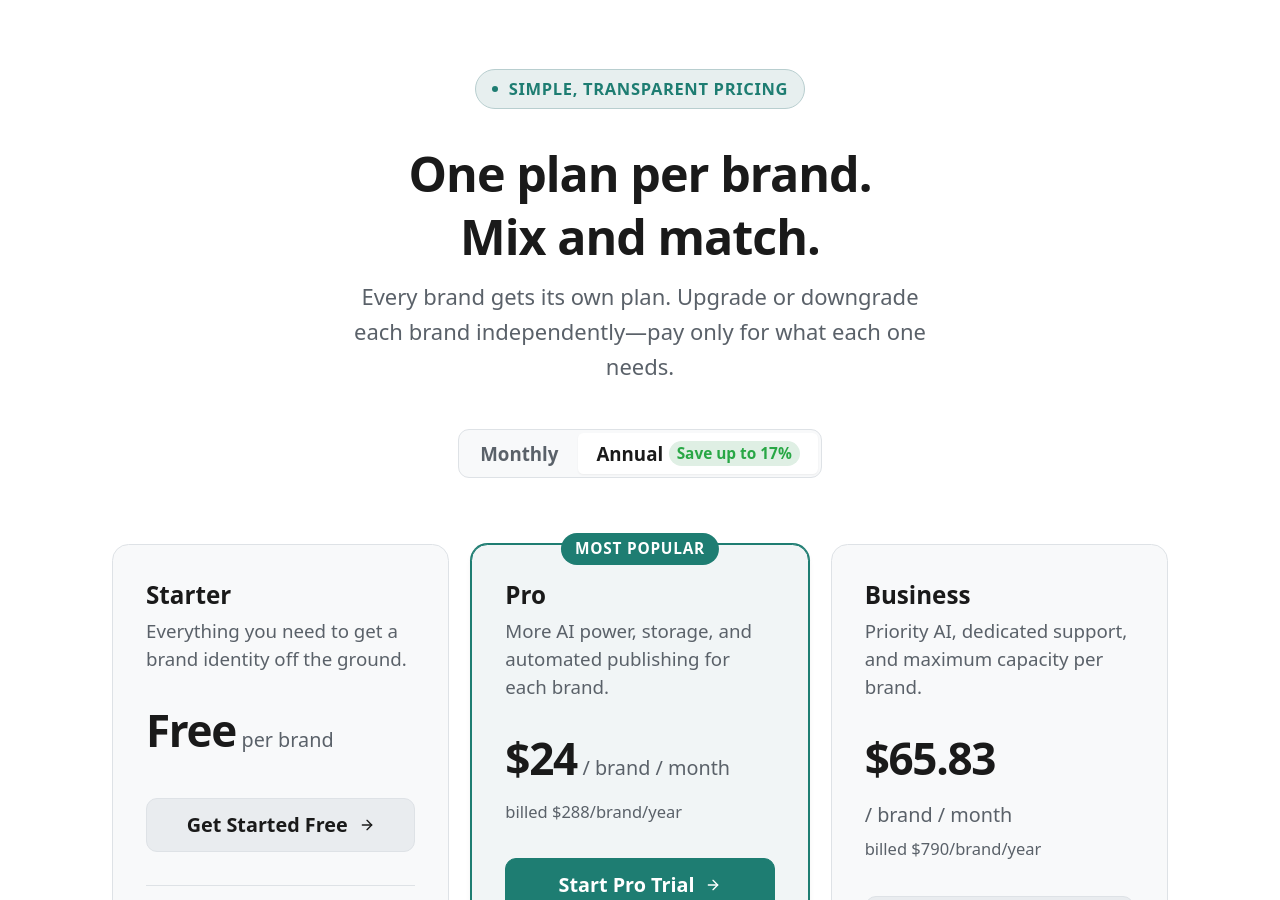
Test: PricingSection billing period › updates the headline monthly equivalent when the billing period changes
This screenshot has width=1280, height=900.
Expected: the text "$65.83" is shown, [865,723,995,794]
Click the radio button labelled "Monthly" at (519, 453), box [462,433,576,474]
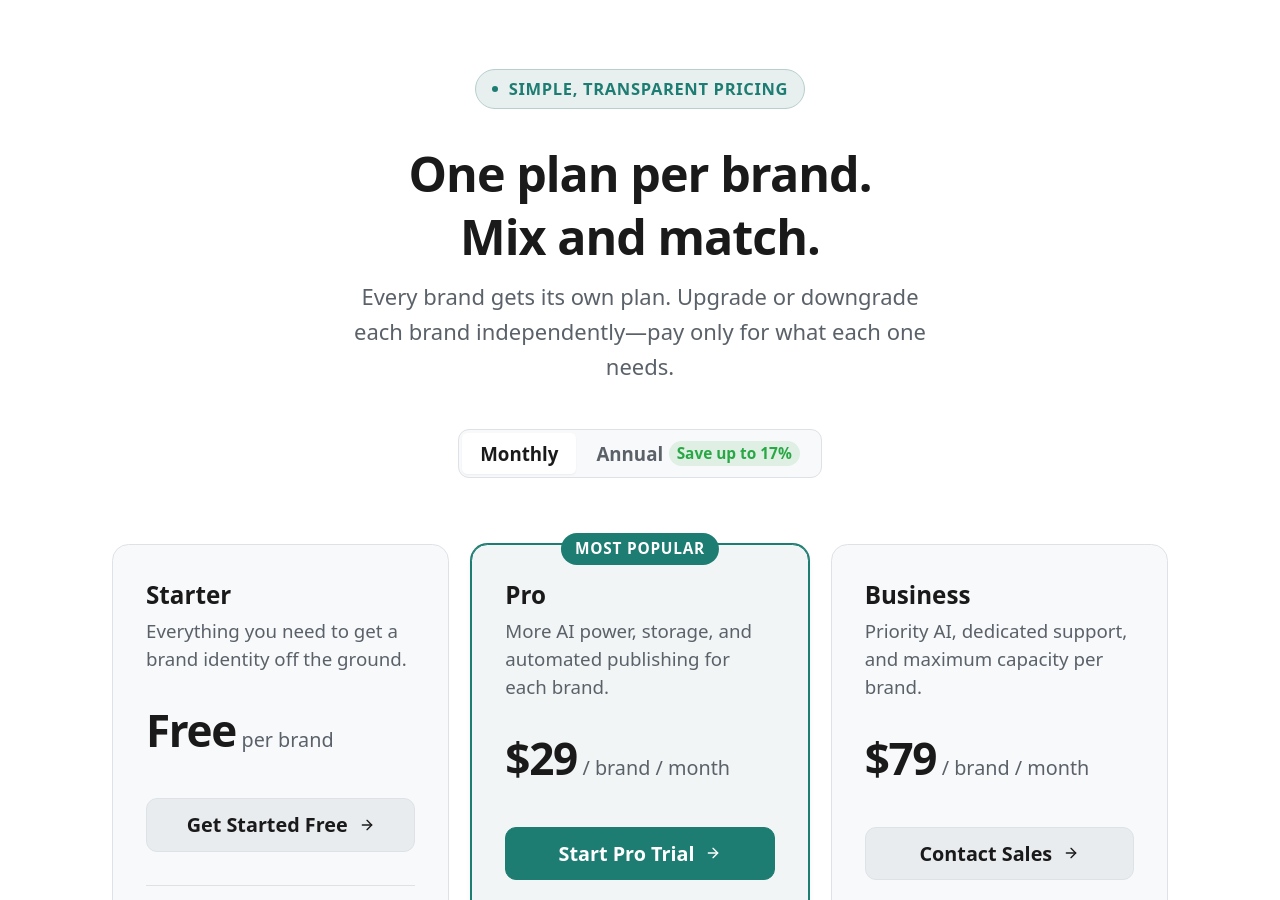
Expected: the text "$79" is shown, [865,723,936,794]
Click the radio button labelled "Annual Save up to 17%" at (698, 453), box [578,433,818,474]
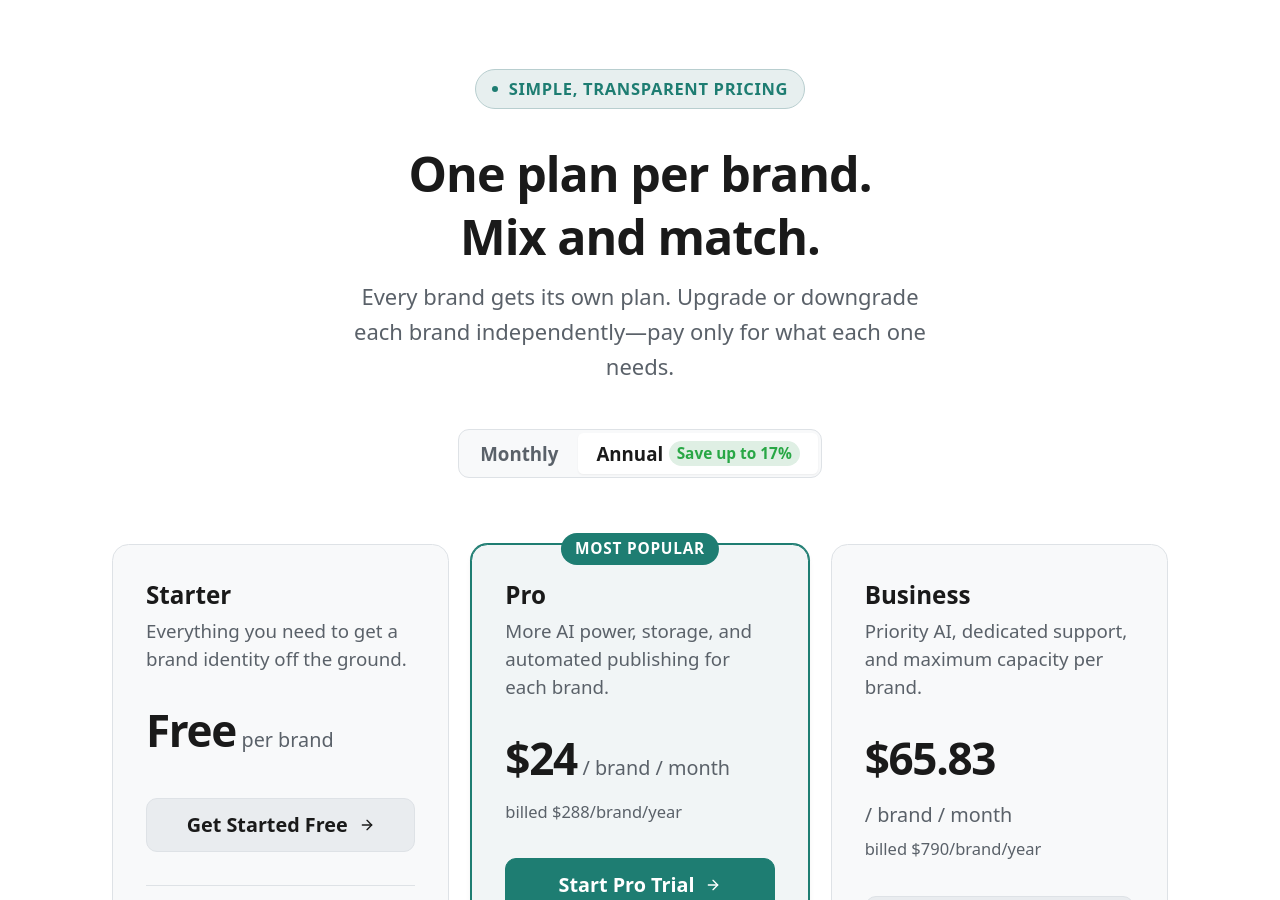
Expected: the text "$65.83" is shown, [865,723,995,794]
